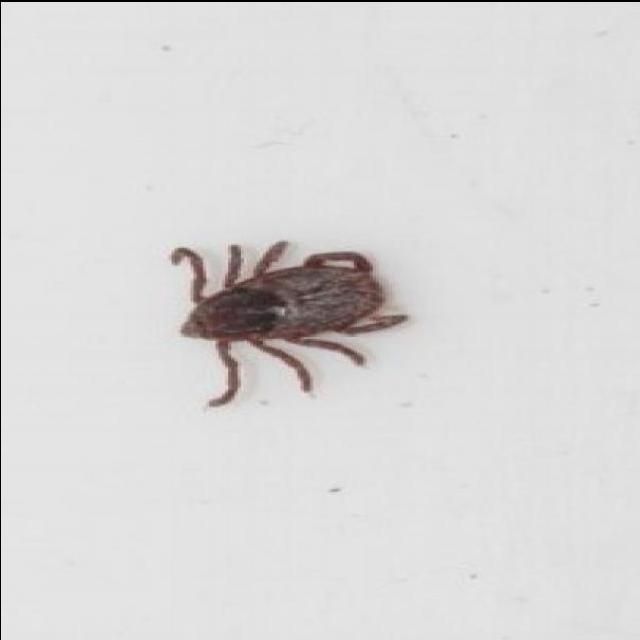Rhipicephalus Sanguineus-F: (167, 240, 406, 408)
